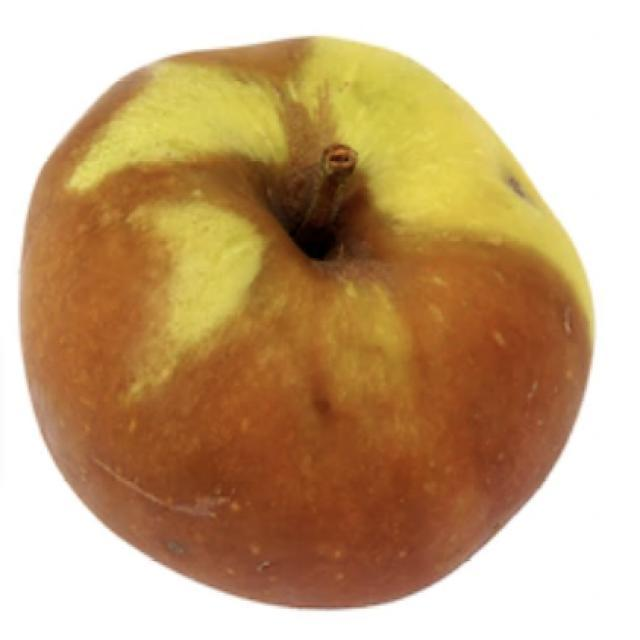Rotten: (45, 42, 583, 598)
